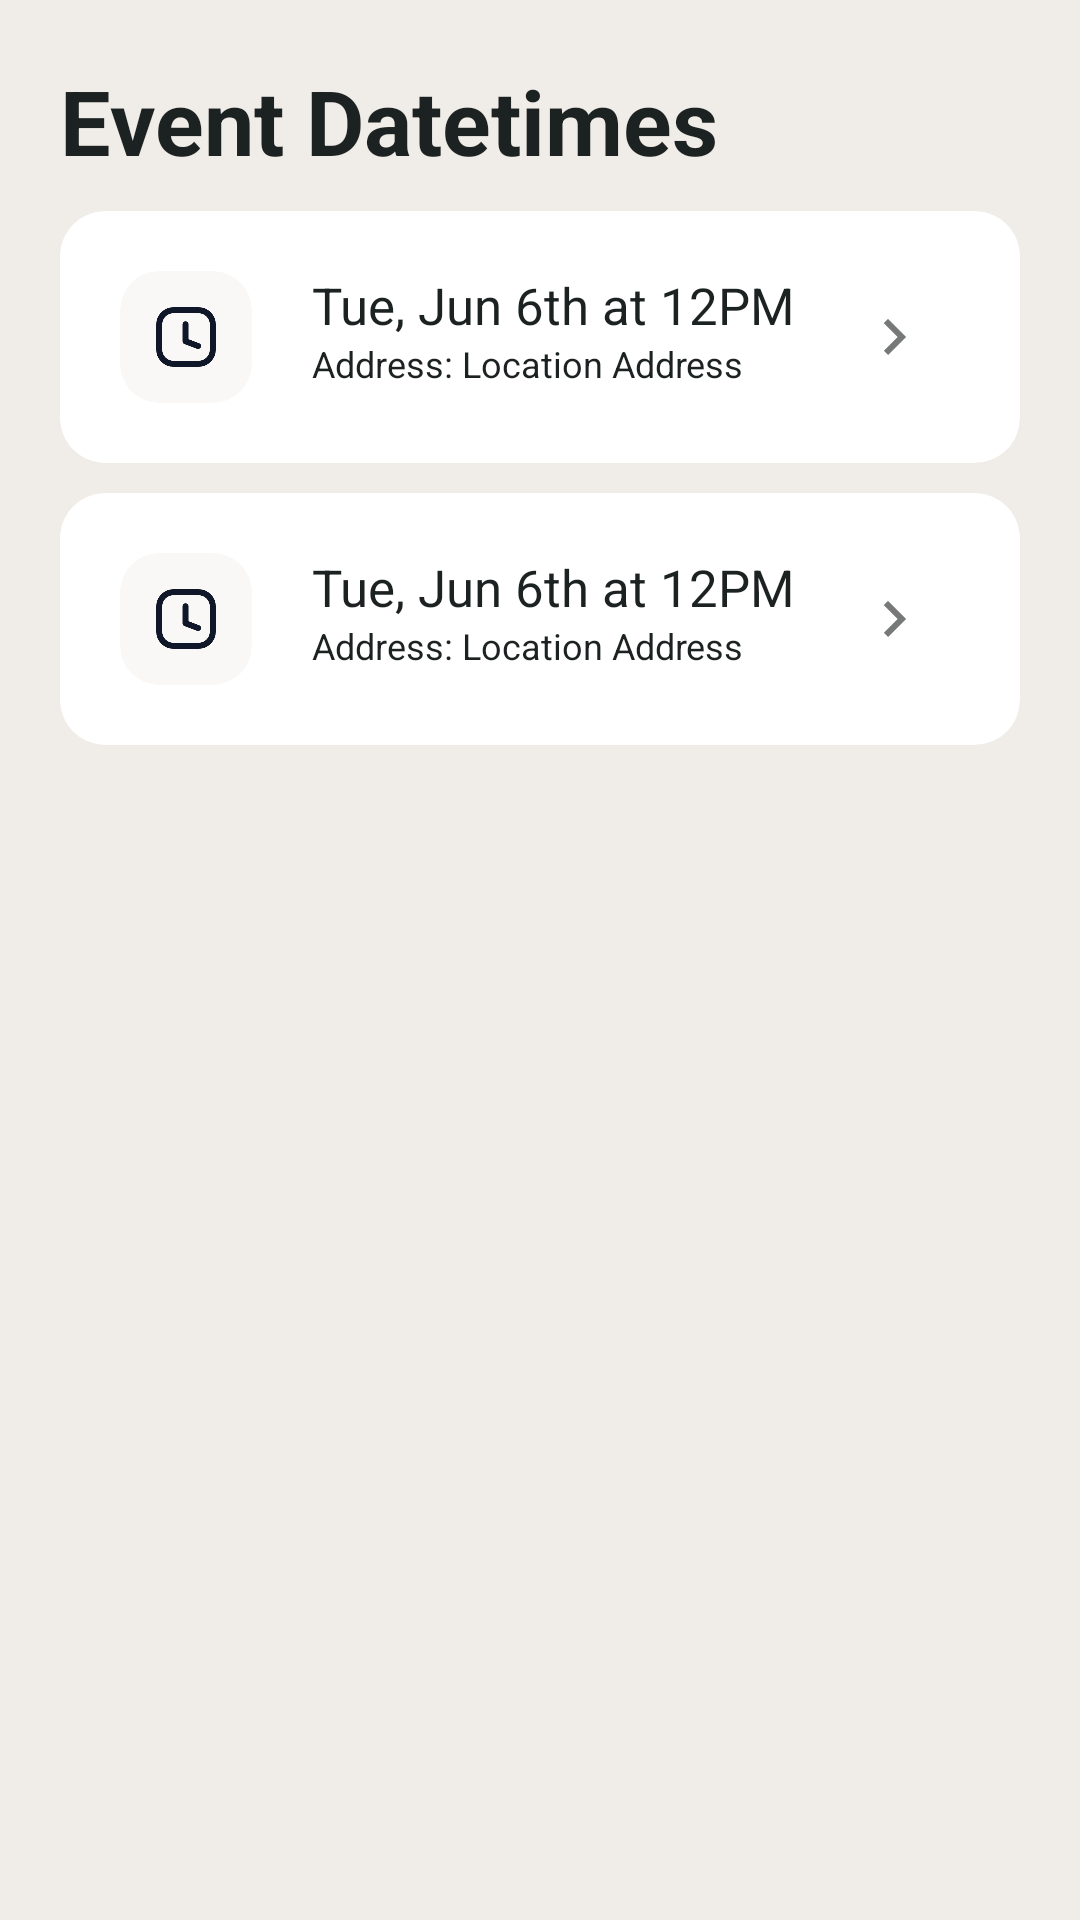

Icons on this 1080px x 1920px Android screen, each with the point to tap as (x,y):
chevron right: (895,337), (895,619)
clock: (186,337), (186,619)
